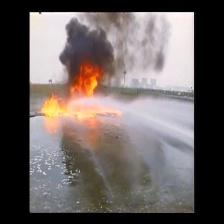fire: (71, 64, 102, 100), (41, 93, 69, 120)
